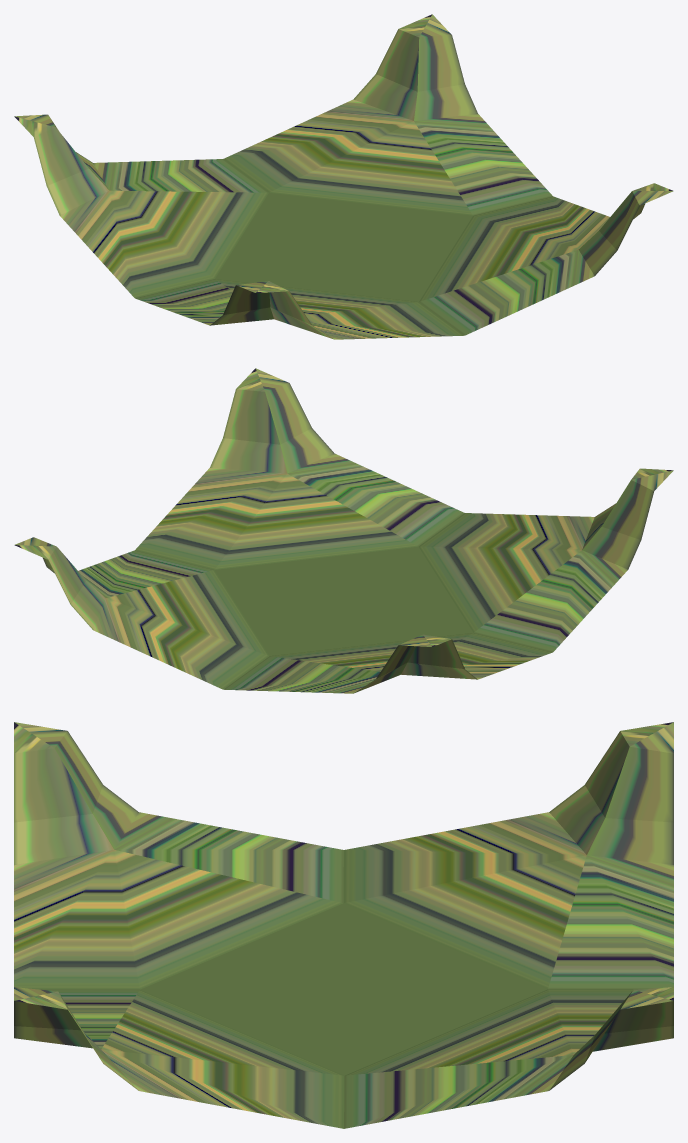
The model's file is Mesh_WaterTile4InsideCorners.fbx.
3 views of the same model, one above another, from view 1: azimuth 30°, elevation 25°; view 2: azimuth 150°, elevation 25°; view 3: azimuth 270°, elevation 25° (orthographic). The views are drawn at different scales.
Visible parts, largest first — view 1: WaterTile4InsideCorners; view 2: WaterTile4InsideCorners; view 3: WaterTile4InsideCorners.
Boxes of the visible parts, x1=… form: WaterTile4InsideCorners: x1=14, y1=14, x2=673, y2=339; WaterTile4InsideCorners: x1=14, y1=368, x2=673, y2=693; WaterTile4InsideCorners: x1=14, y1=722, x2=673, y2=1128.
Bounding box in the file's own units: 10000 × 2140 × 10000.
